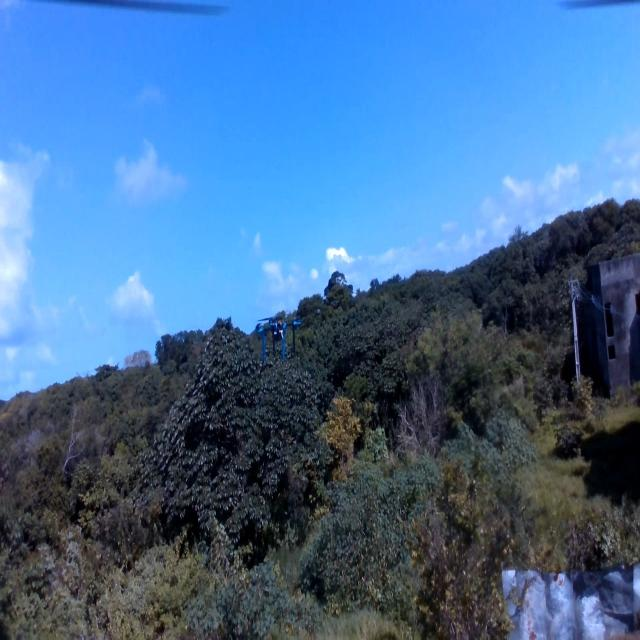-uav-: (250, 306, 301, 368)
